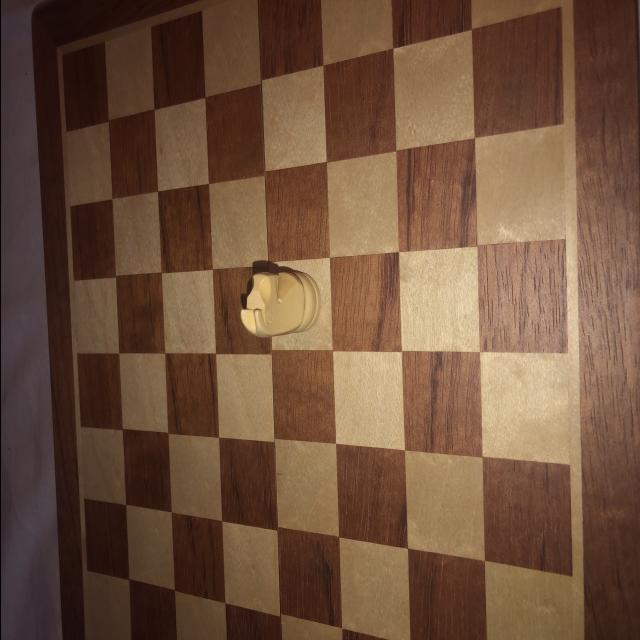white_knight: (238, 266, 322, 342)
